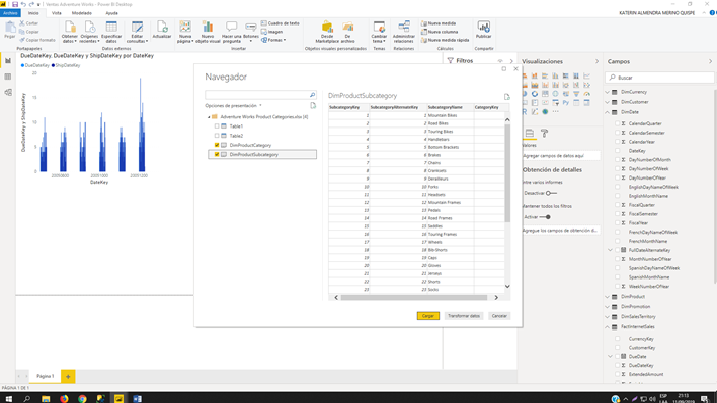

Layout of this report page (visuals, bound fields, positions):
{"tool":"powerbi","page":{"name":"Página 1","canvas":[1280,720],"ordinal":0},"visuals":[{"type":"clusteredColumnChart","fields":{"Y":["CountNonNull(FactInternetSales.DueDateKey)","CountNonNull(FactInternetSales.DueDateKey)","CountNonNull(FactInternetSales.ShipDateKey)"],"Category":["DimDate.DateKey"]},"box":[10.1,0,450.9,398.3],"z":0},{"type":"clusteredColumnChart","fields":{"Y":["CountNonNull(DimProductSubcategory.CategoryKey)","CountNonNull(DimProductCategory.CategoryKey)"]},"box":[461,0,483.4,360.3],"z":1000}]}

Visuals, with their boxes on the page's 1280x720 design canvas (x1, y1, x2, y2). These are canvas units, not pixel positions in the 717x403 screenshot, which may show the page scaled, cropped or inside an application window:
clusteredColumnChart - CountNonNull(FactInternetSales.DueDateKey) x CountNonNull(FactInternetSales.DueDateKey): (left=10, top=0, right=461, bottom=398)
clusteredColumnChart - CountNonNull(DimProductSubcategory.CategoryKey) x CountNonNull(DimProductCategory.CategoryKey): (left=461, top=0, right=944, bottom=360)
